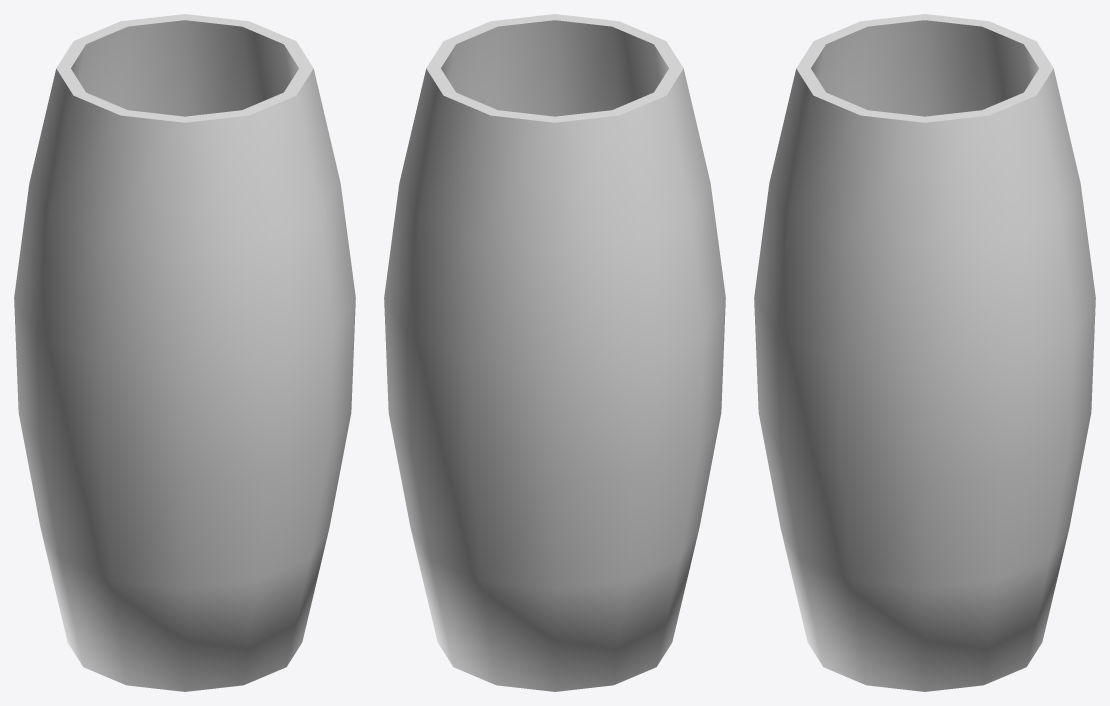
File: Vase_a_01.fbx
The picture shows the model from 3 angles, left to right: view 1: azimuth 30°, elevation 25°; view 2: azimuth 150°, elevation 25°; view 3: azimuth 270°, elevation 25°; orthographic projection.
Parts seen in each view (by area): view 1: Vase_a_01; view 2: Vase_a_01; view 3: Vase_a_01.
Part boxes in pixels (x1,y1,x2,y2): Vase_a_01: (14, 14, 355, 691); Vase_a_01: (384, 14, 725, 691); Vase_a_01: (754, 14, 1095, 691).
Size of the model in its own units: 3.14 by 5.82 by 3.14.
